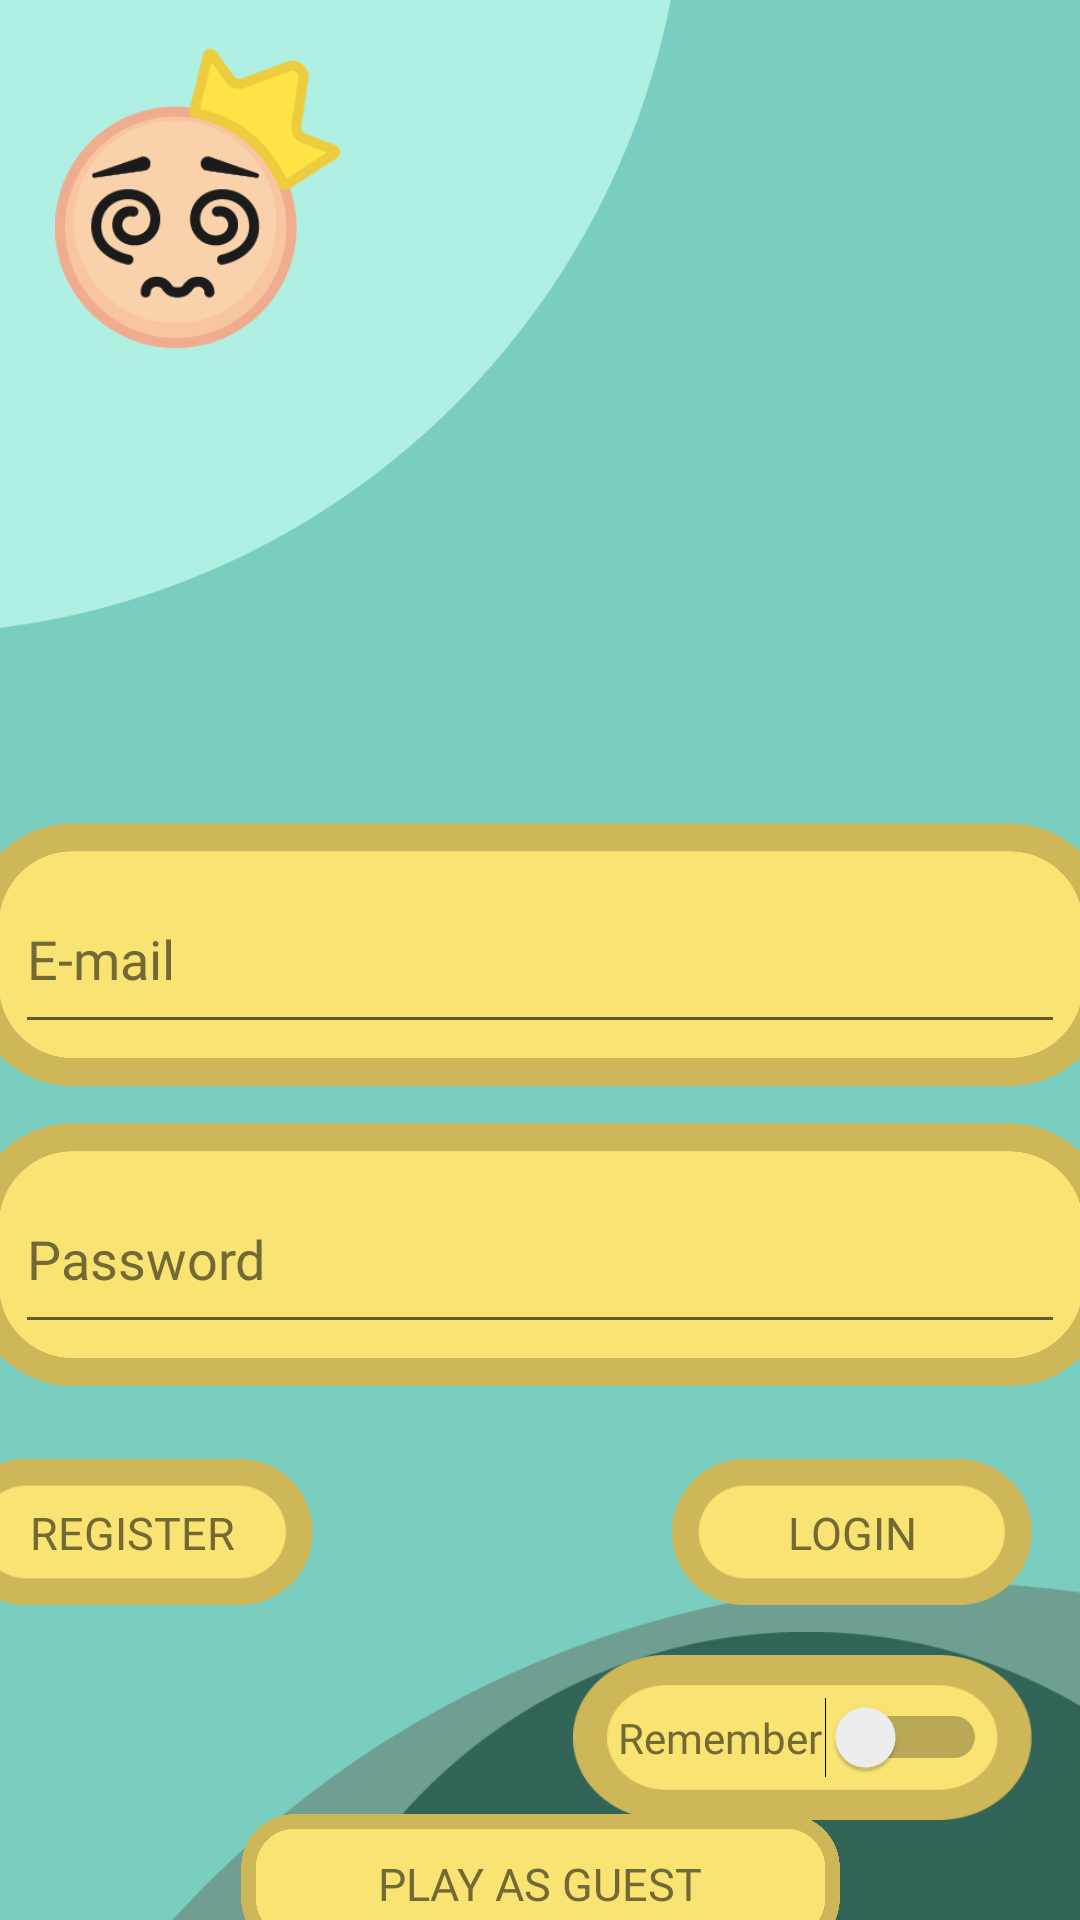

Point at icon controls on the screen. Image size 1080*1920, points as (x=x, y=y).
screen face: (x=198, y=198)
